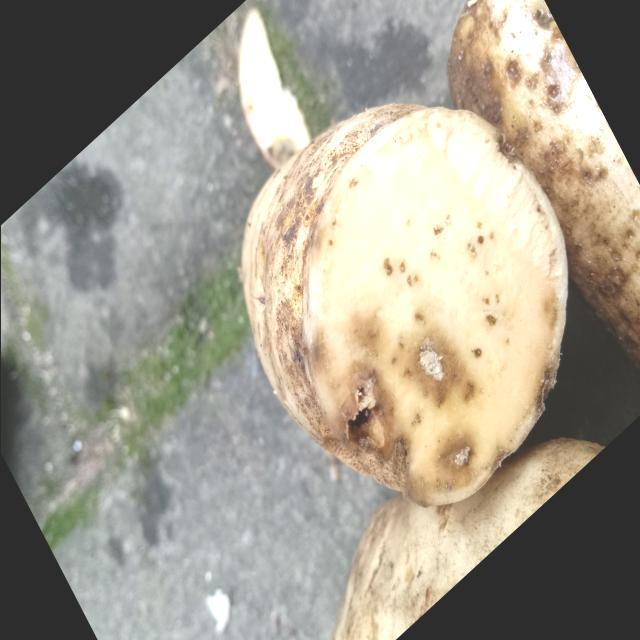Sick Sweet Potato_Tuber Rot: (302, 108, 566, 505)
